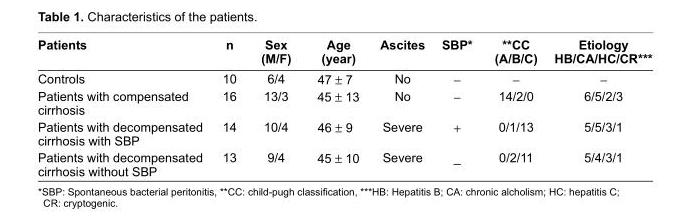table: (36, 37, 651, 177)
table column: (36, 37, 211, 177), (545, 37, 651, 177), (303, 37, 368, 177), (368, 37, 432, 177), (482, 37, 545, 177), (248, 37, 303, 177), (432, 37, 482, 177), (211, 37, 248, 177)
table column header: (36, 37, 651, 67)
table row: (36, 117, 651, 148), (36, 37, 651, 67), (36, 87, 651, 117), (36, 148, 651, 177), (36, 67, 651, 87)
